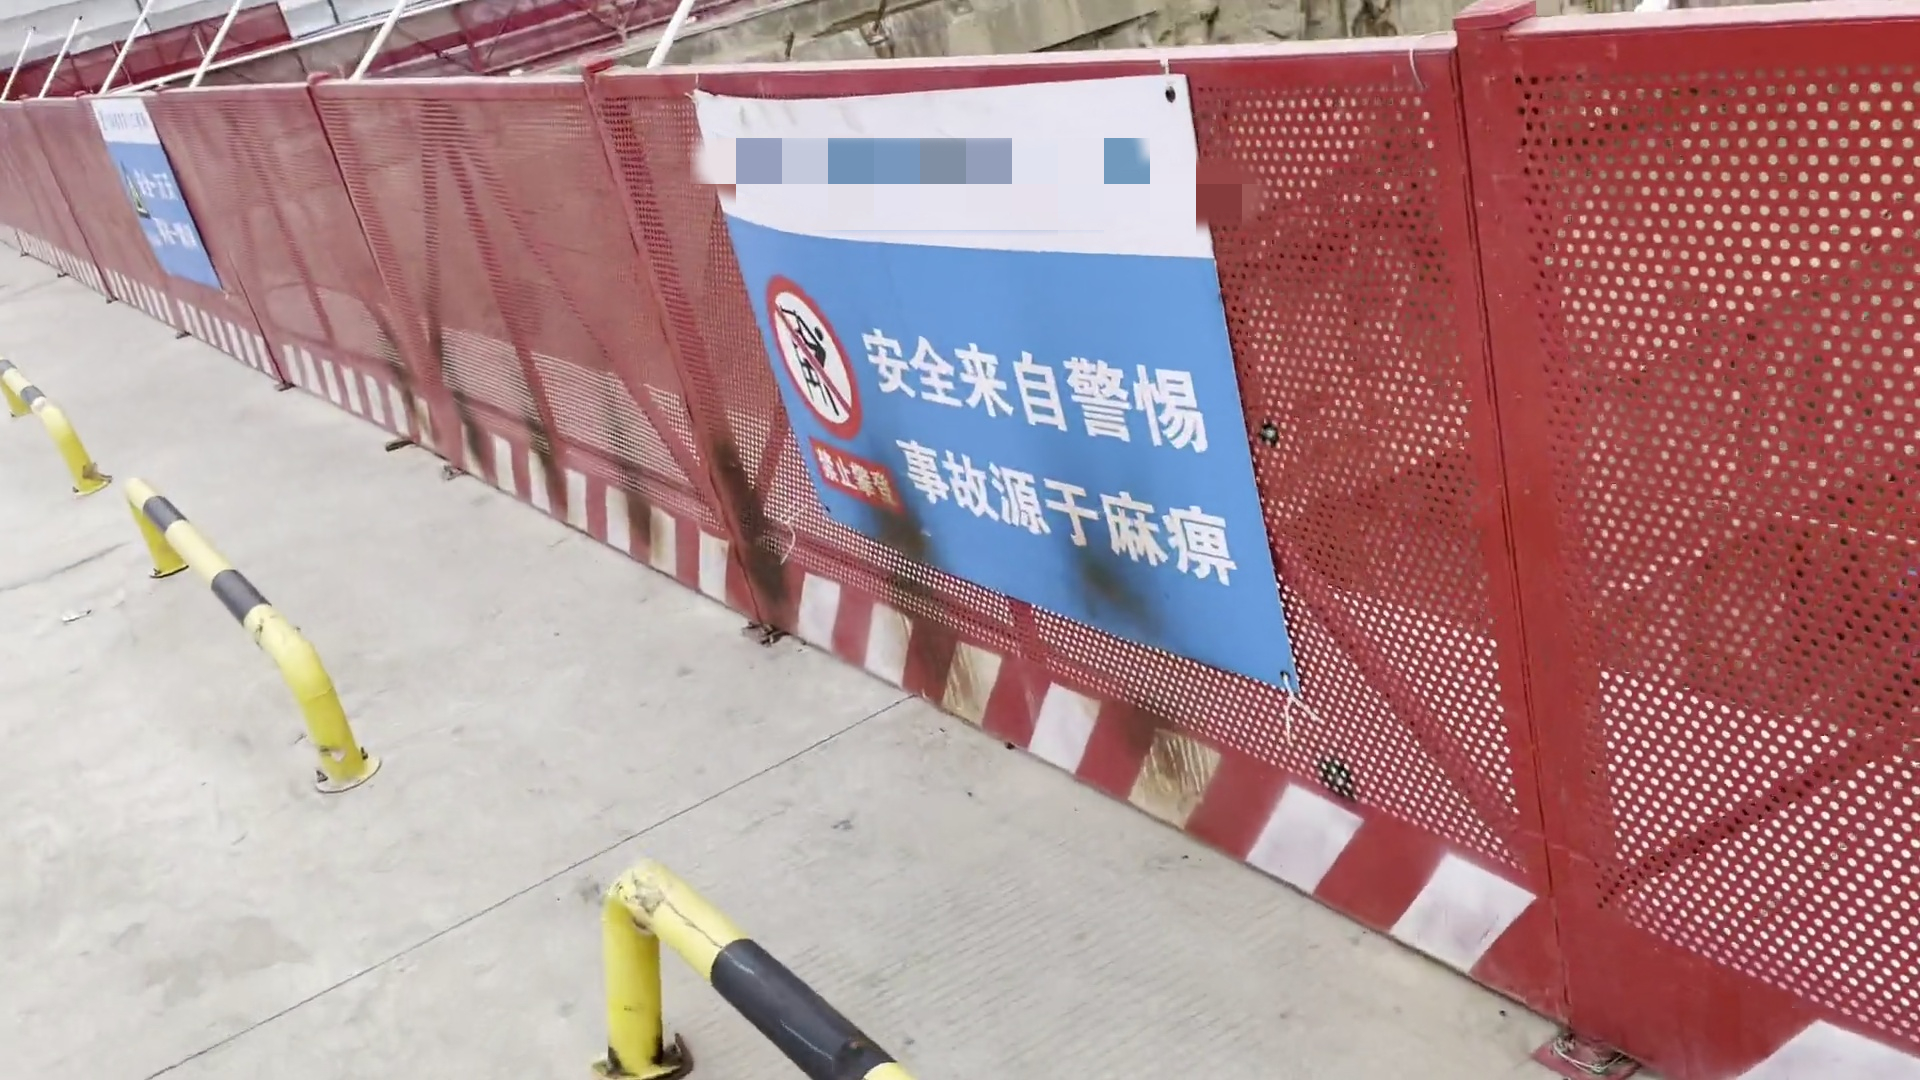fence: (1183, 1, 1920, 1065), (738, 44, 1193, 825), (179, 69, 769, 628), (3, 102, 360, 392), (389, 1, 674, 73)
slogan: (659, 80, 1305, 705), (75, 88, 233, 305)
